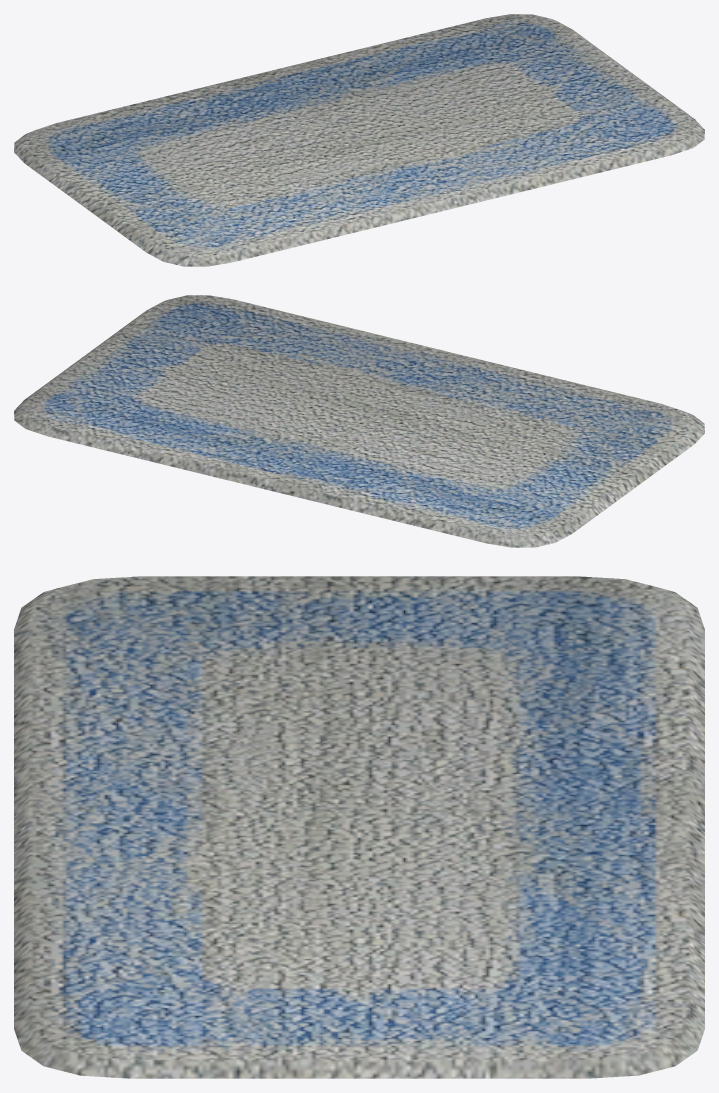
File: toiletrug01.DAE
3 views of the same model, one above another, from view 1: azimuth 30°, elevation 25°; view 2: azimuth 150°, elevation 25°; view 3: azimuth 270°, elevation 25° (orthographic). The views are drawn at different scales.
Visible parts, largest first — view 1: toiletrug01; view 2: toiletrug01; view 3: toiletrug01.
Boxes of the visible parts, x1,y1,x2,y2 form: toiletrug01: (14,14,704,266); toiletrug01: (14,295,704,547); toiletrug01: (14,576,704,1078).
Size of the model in its own units: 1.41 by 0.0141 by 0.8257.
